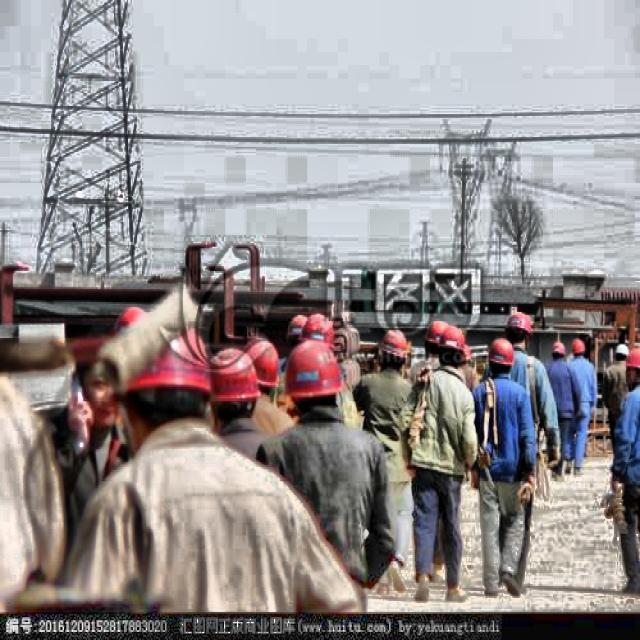helmet: (114, 322, 216, 447), (280, 344, 346, 424), (205, 348, 262, 428), (302, 314, 338, 358), (504, 310, 534, 354), (379, 326, 408, 371), (424, 318, 454, 359), (439, 327, 467, 368), (486, 340, 514, 377), (623, 348, 639, 390), (548, 337, 566, 362), (572, 336, 586, 359), (616, 343, 631, 362)
